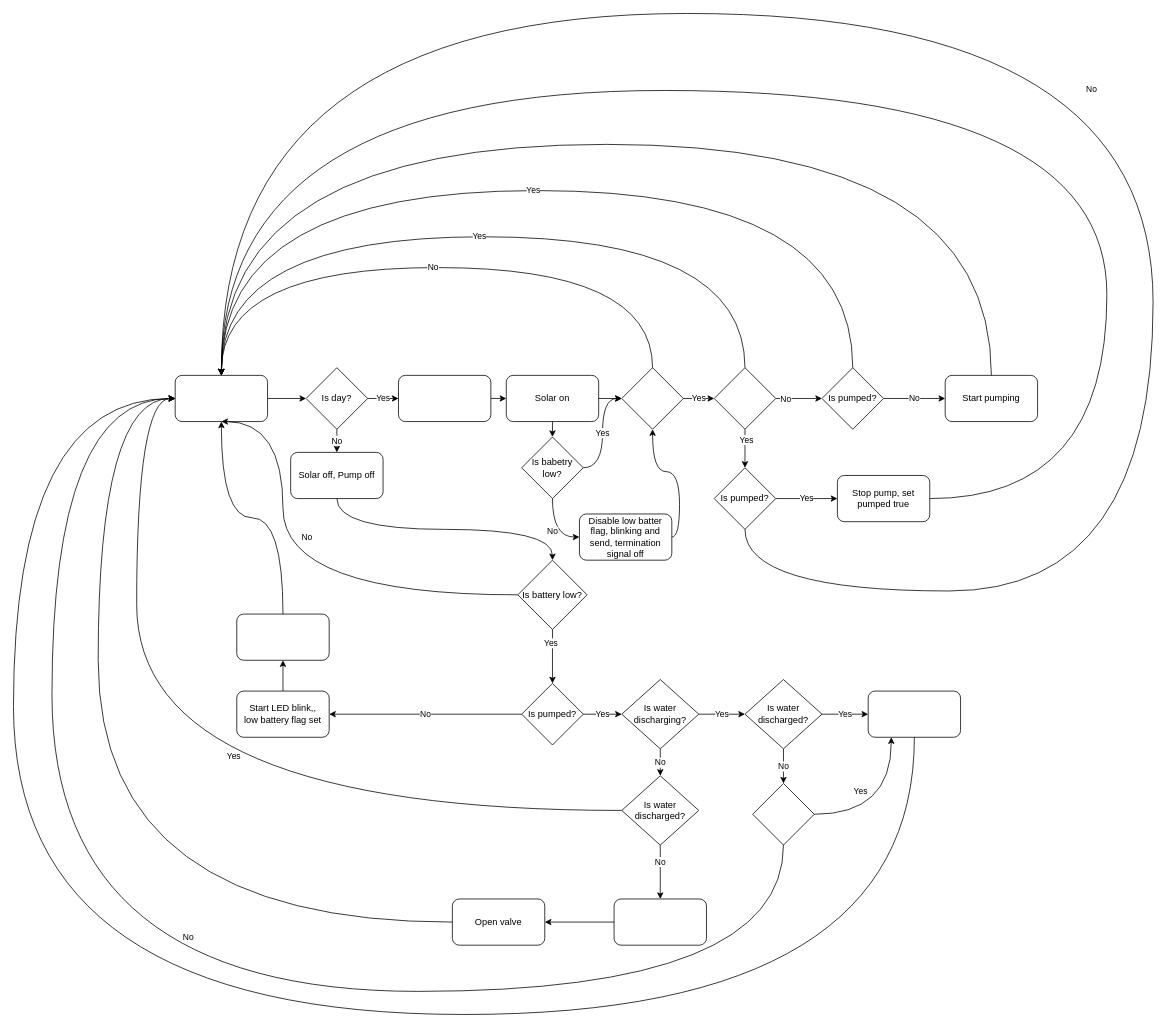
This 1167x1028 diagram has some shape labels left out. Here are the shapes that lost their labels. From the top down, the box of each, then its label:
(174, 375, 268, 422): Idle
(398, 375, 491, 422): Turbine off, Valve off
(621, 367, 683, 429): Is battery charged?
(713, 367, 776, 429): Is pumping?
(236, 613, 329, 660): Send termination signal to remote
(867, 690, 961, 737): Close valve, turbine off
(752, 783, 814, 845): Is battery ok?
(613, 898, 706, 945): Turbine on
